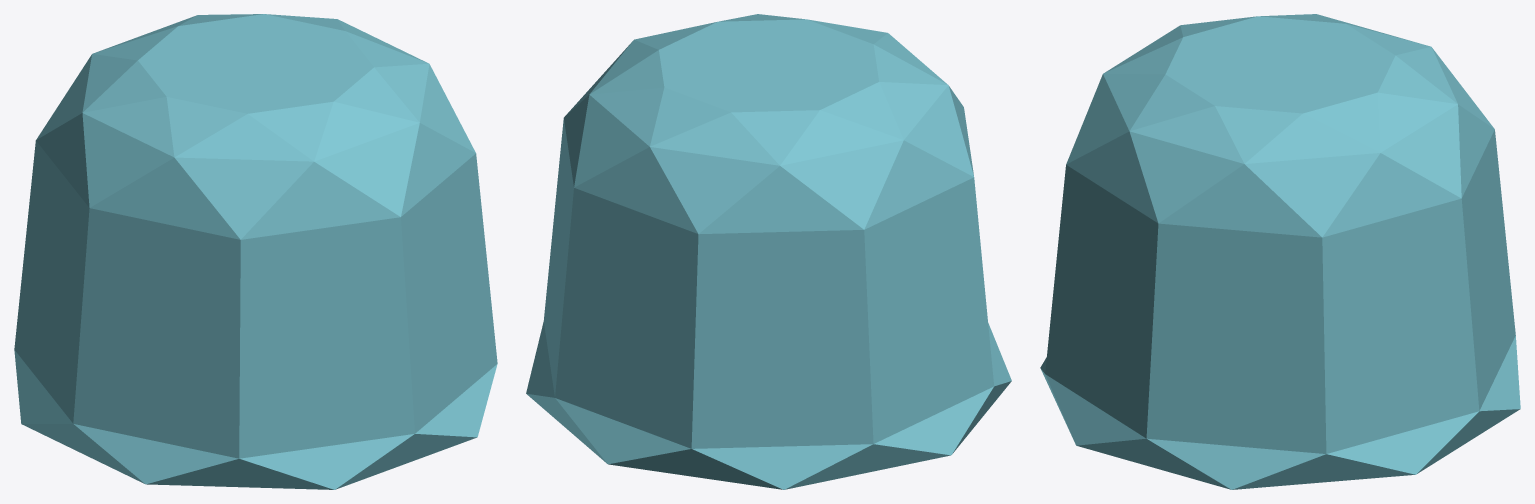
Rendered from Glass_Stump.glb.
3 views of the same model, side by side, from view 1: azimuth 30°, elevation 25°; view 2: azimuth 150°, elevation 25°; view 3: azimuth 270°, elevation 25° (orthographic).
Parts seen in each view (by area): view 1: Glass_Stump_0; view 2: Glass_Stump_0; view 3: Glass_Stump_0.
Part boxes in pixels (x1,y1,x2,y2): Glass_Stump_0: (14,14,497,489); Glass_Stump_0: (526,14,1011,489); Glass_Stump_0: (1040,14,1520,489).
Bounding box in the file's own units: 0.9017 × 0.67 × 0.9017.
